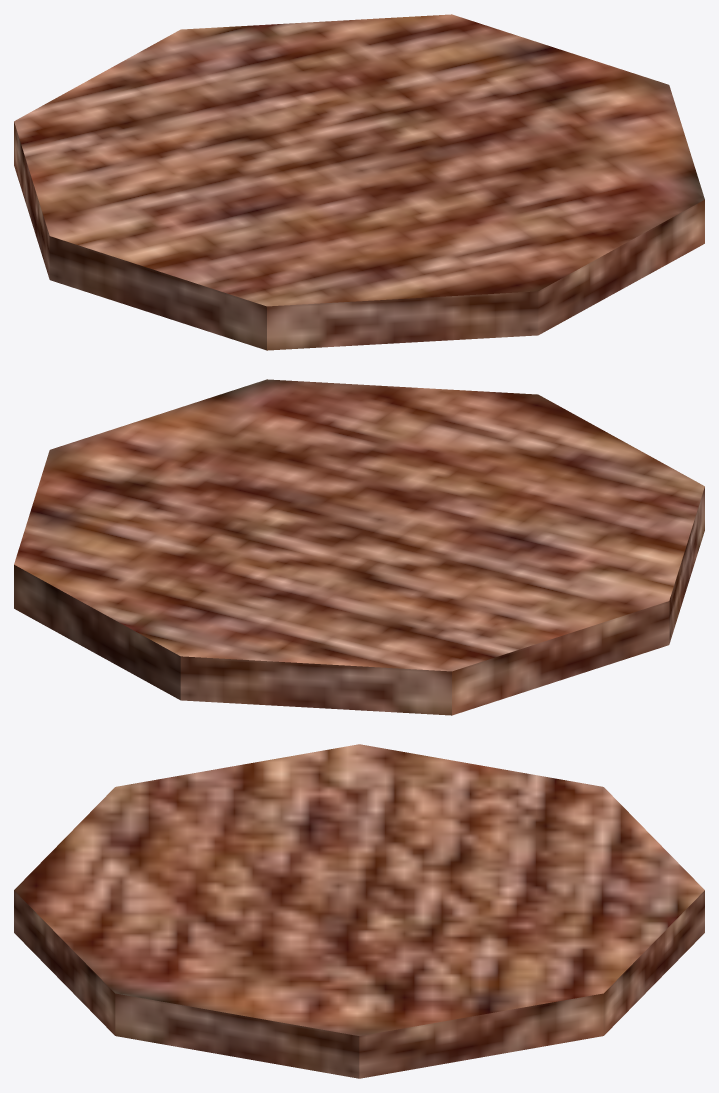
The model's file is carnecocida.fbx.
3 renders of one model, top to bottom at view 1: azimuth 30°, elevation 25°; view 2: azimuth 150°, elevation 25°; view 3: azimuth 270°, elevation 25°, orthographic. The views are drawn at different scales.
Visible parts, largest first — view 1: Roast_meat; view 2: Roast_meat; view 3: Roast_meat.
Part boxes in pixels (left/top/right/bottom): Roast_meat: left=14, top=14, right=704, bottom=350; Roast_meat: left=14, top=379, right=704, bottom=715; Roast_meat: left=14, top=744, right=704, bottom=1078.
Size of the model in its own units: 22.1 by 1.5 by 22.1.
